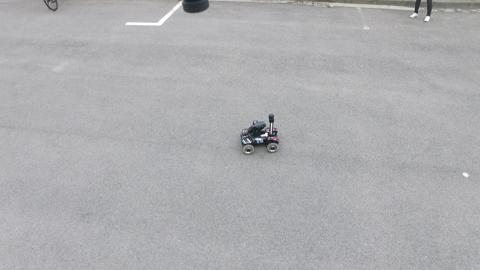chariot: (235, 105, 286, 158)
